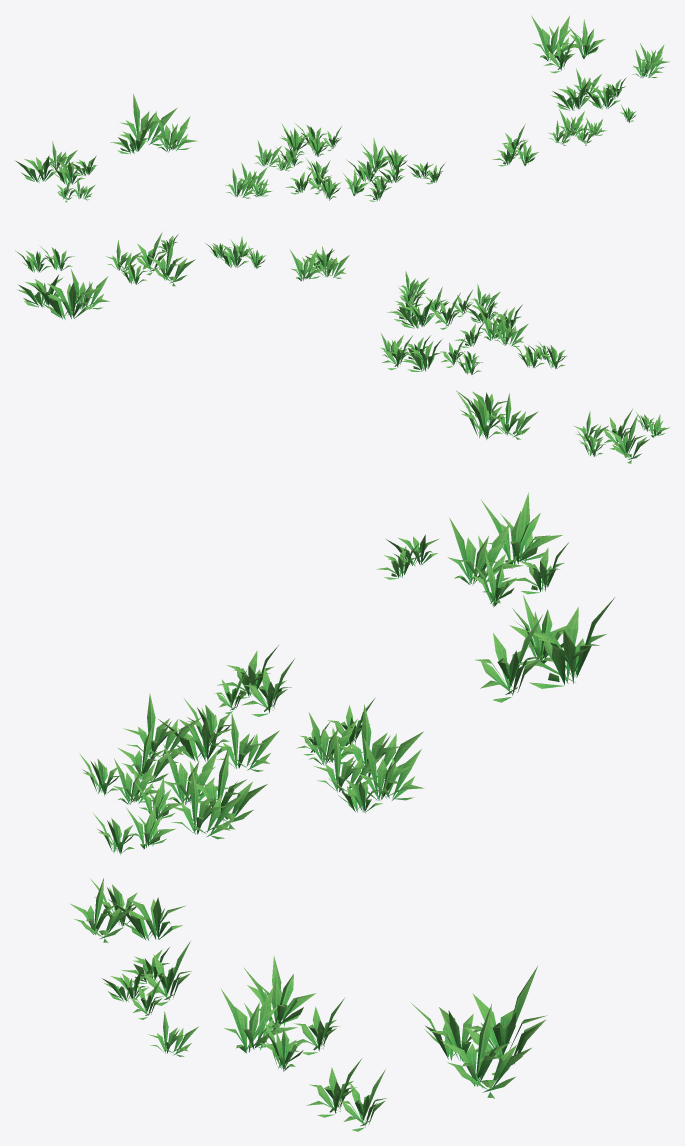
Rendered from area_07_13.fbx.
3 renders of one model, top to bottom at view 1: azimuth 30°, elevation 25°; view 2: azimuth 150°, elevation 25°; view 3: azimuth 270°, elevation 25°, orthographic. The views are drawn at different scales.
Visible parts, largest first — view 1: area_07_13; view 2: area_07_13; view 3: area_07_13.
Boxes of the visible parts, x1=… form: area_07_13: x1=14, y1=15, x2=669, y2=202; area_07_13: x1=15, y1=232, x2=669, y2=463; area_07_13: x1=69, y1=492, x2=614, y2=1131.
Bounding box in the file's own units: 24.52 × 1.64 × 9.48.
